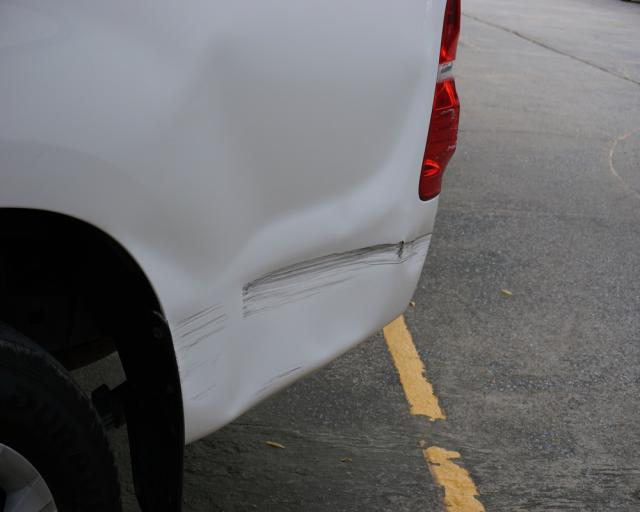dent: (180, 32, 425, 418)
scratch: (169, 293, 225, 405)
